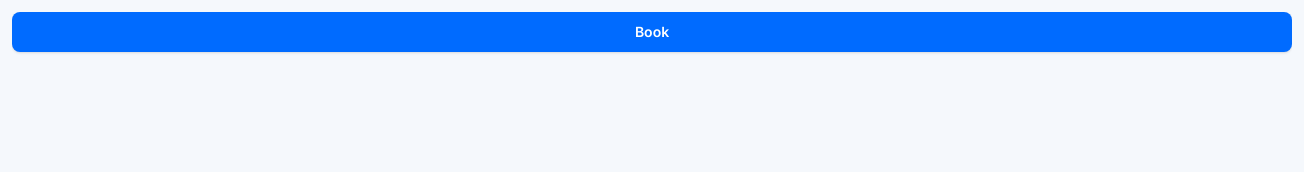
BookButton › shows the error when booking fails
Step 1. Click the button "Book" → (652, 32), box [12,12,1292,52]
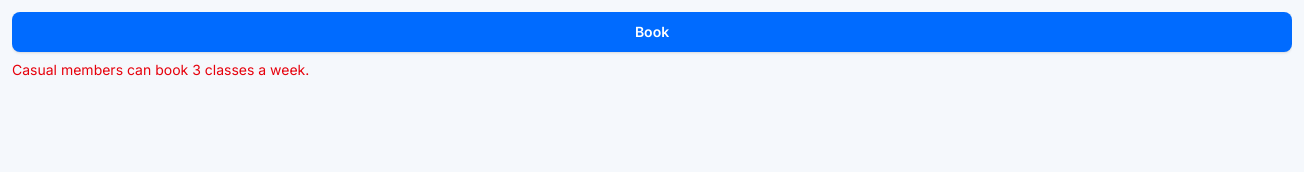
Check: the text "Casual members can book 3 classes a week." is shown, box [12,61,309,78]
